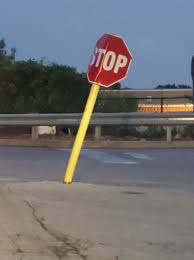SS: (87, 31, 132, 88)
